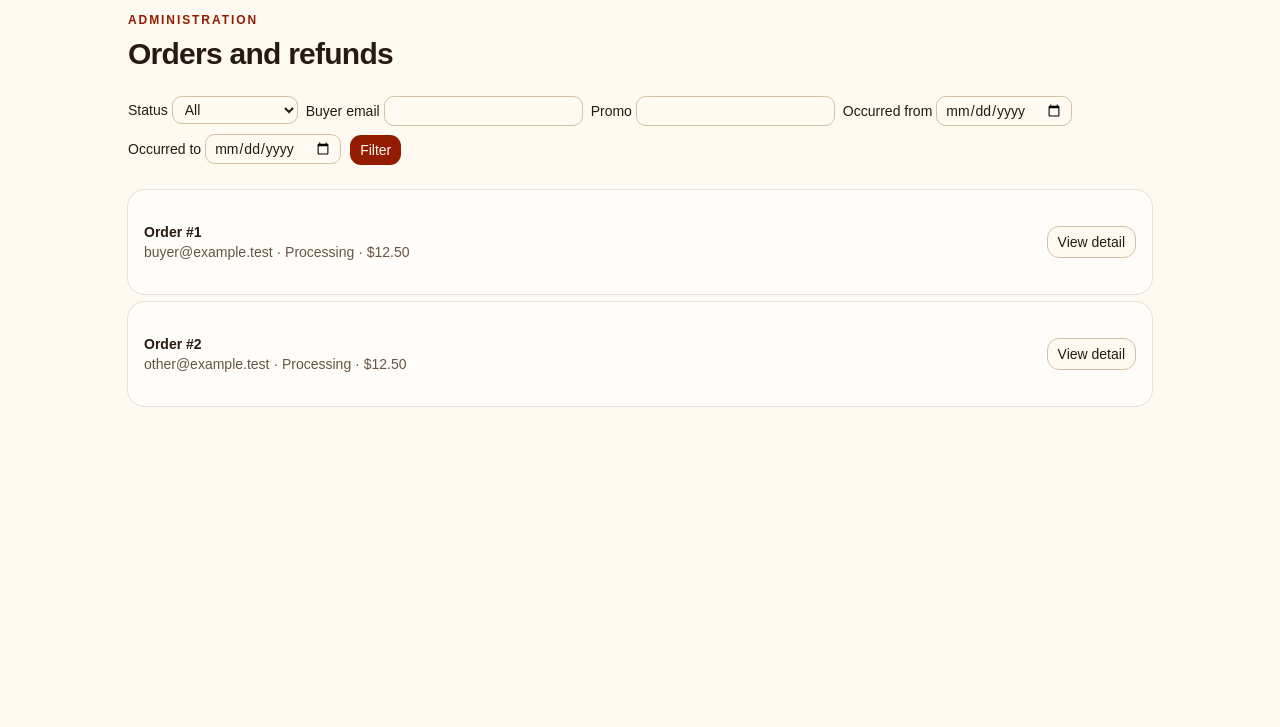
Test: AdminOrdersPage › keeps the latest order detail when requests resolve out of order
Step 1. Click the button "View detail" in the row of "buyer@example.test · Processing · $12.50" → (1091, 242), box [1046, 226, 1136, 258]
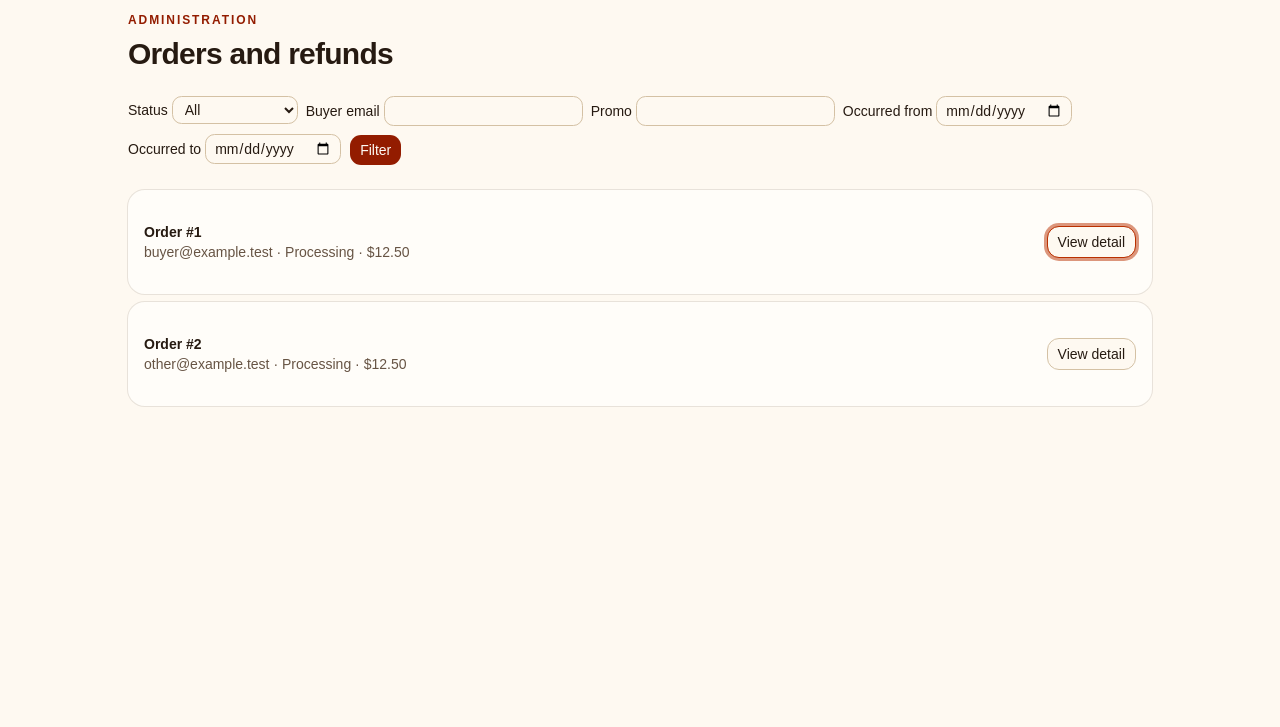
Step 2. Click the button "View detail" in the row of "other@example.test · Processing · $12.50" → (1091, 354), box [1046, 338, 1136, 370]
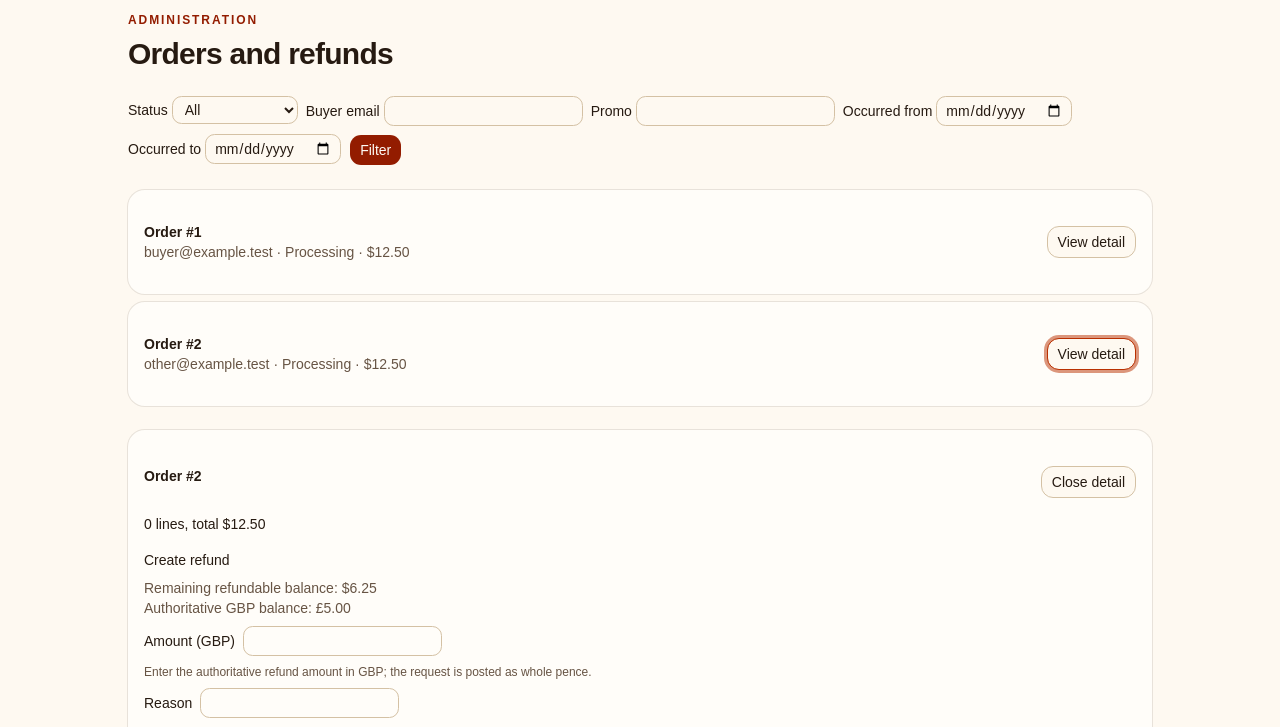
Result: the heading "Order #2" is shown at [144, 468, 202, 484]
